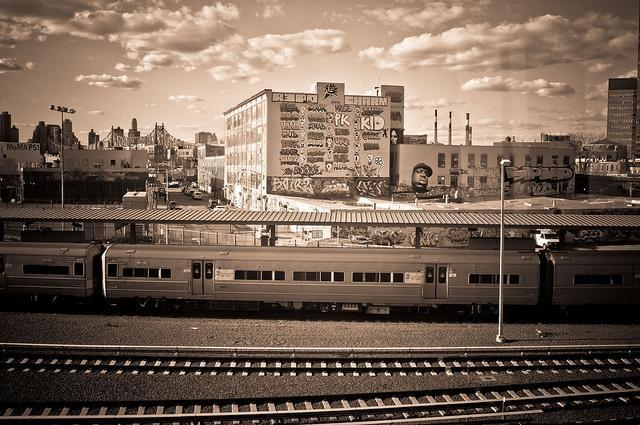car: (208, 198, 220, 210), (192, 192, 204, 200), (214, 206, 228, 212), (170, 201, 180, 208), (188, 190, 198, 195), (168, 184, 180, 188), (186, 190, 193, 196), (182, 187, 187, 192)
